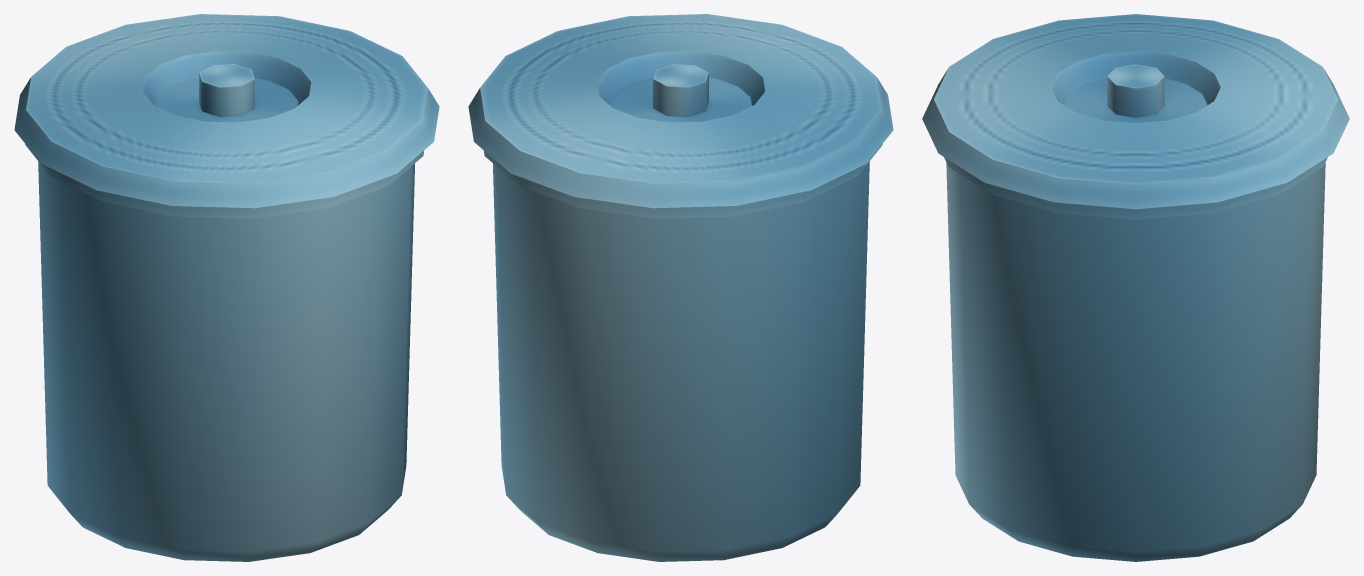
File: jsf_PolyBucketDough_04.fbx
3 views of the same model, side by side, from view 1: azimuth 30°, elevation 25°; view 2: azimuth 150°, elevation 25°; view 3: azimuth 270°, elevation 25° (orthographic).
Visible parts, largest first — view 1: Body, Lid; view 2: Body, Lid; view 3: Body, Lid.
Part boxes in pixels (x1,y1,x2,y2): Body: (25, 144, 424, 561); Lid: (14, 14, 439, 208); Body: (483, 144, 882, 561); Lid: (468, 14, 893, 208); Body: (944, 157, 1327, 561); Lid: (922, 14, 1349, 209).
Size of the model in its own units: 34.91 by 37.41 by 34.91.
